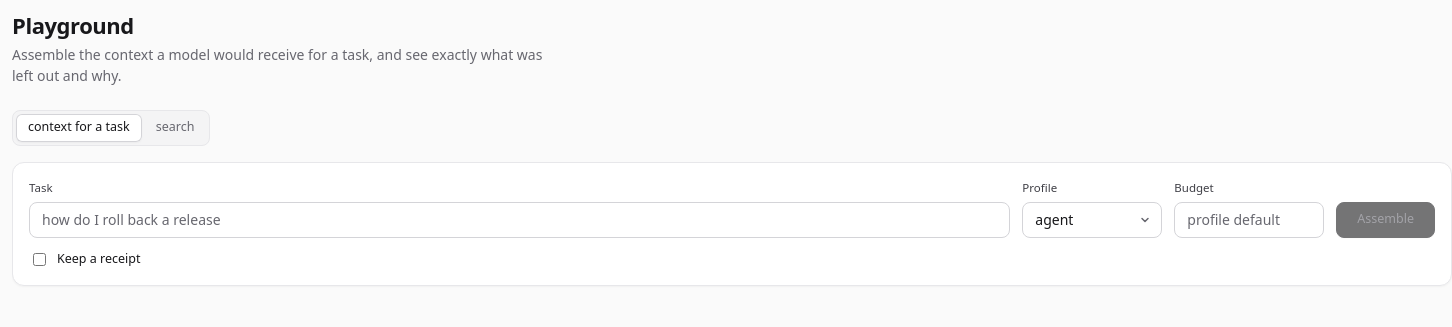
assembling a bundle › refuses a budget outside the documented bounds, and says the bounds
Type "a task" into the field labelled "Task".
click(520, 220); type("a task")  # box [29,202,1010,238]
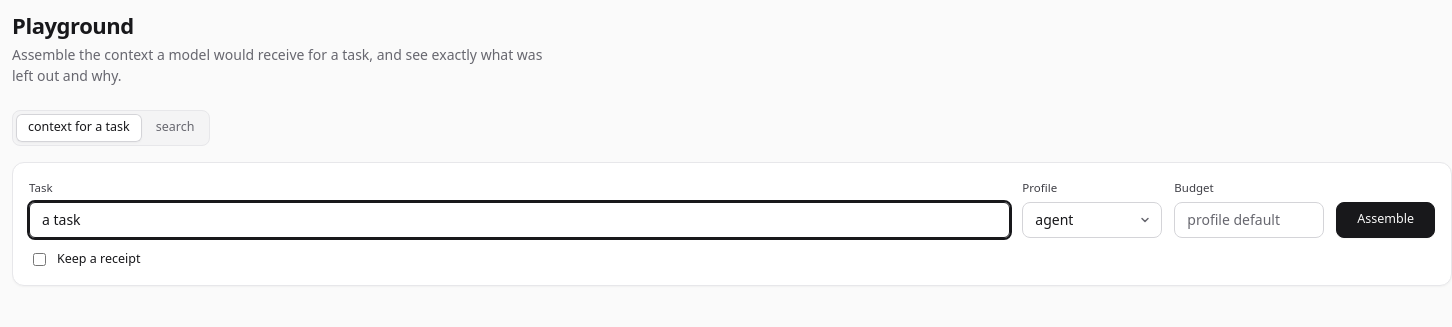
Type "200" into the field labelled "Budget".
click(1249, 220); type("200")  # box [1174,202,1324,238]
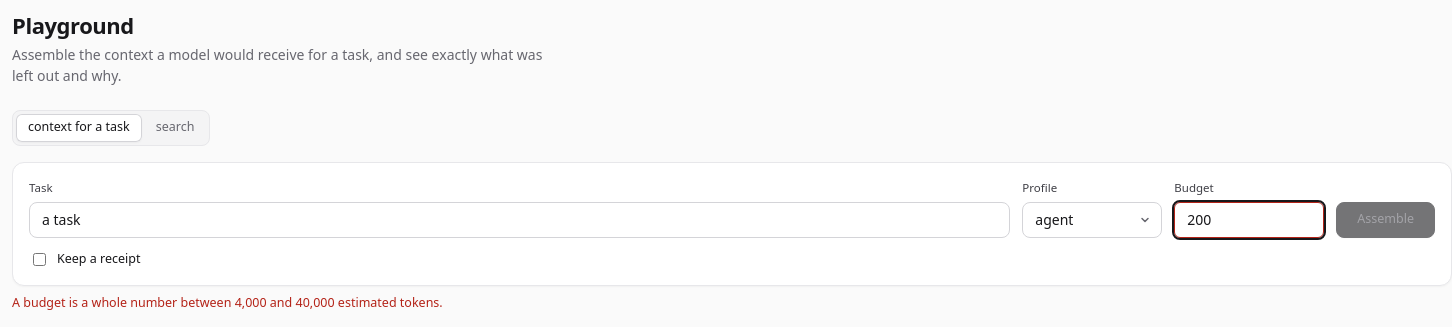
Expected: the text "between 4,000 and 40,000" is shown, [12,294,443,311]
Expected: the button "Assemble" is disabled, [1336,202,1435,238]
